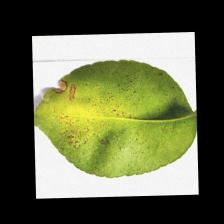canker: (37, 61, 109, 162)
